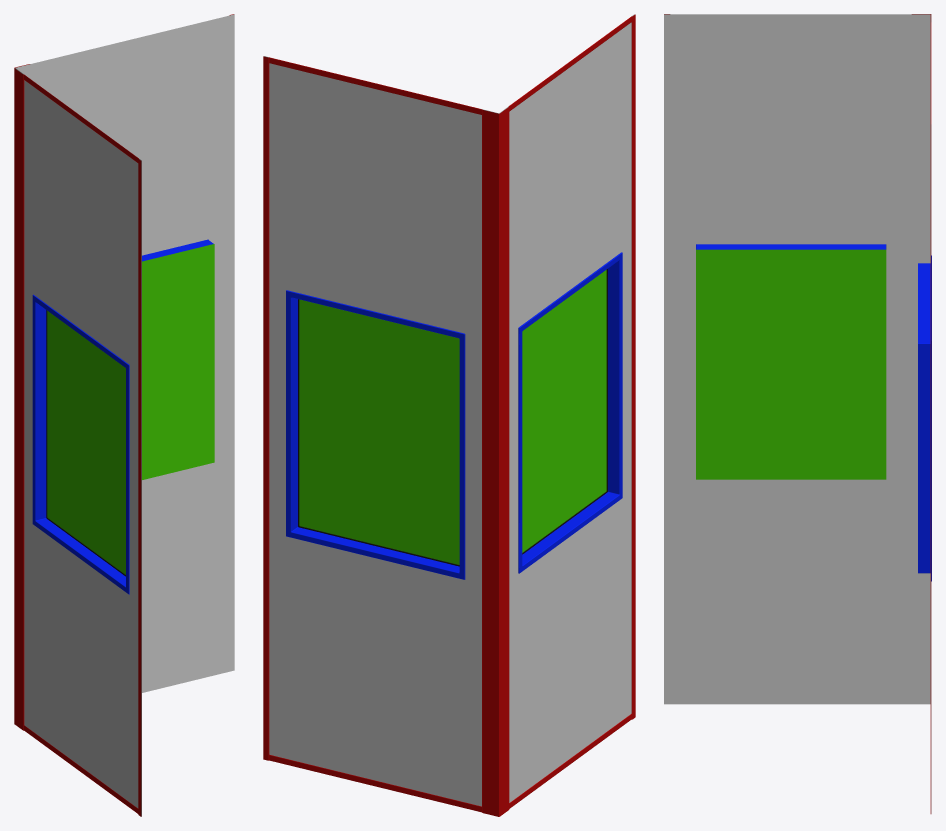
The model's file is Wall02WindowCornerExt.fbx.
The picture shows the model from 3 angles, left to right: view 1: azimuth 30°, elevation 25°; view 2: azimuth 150°, elevation 25°; view 3: azimuth 270°, elevation 25°; orthographic projection. The views are drawn at different scales.
Parts seen in each view (by area): view 1: Wall02WindowCornerExt; view 2: Wall02WindowCornerExt; view 3: Wall02WindowCornerExt.
Boxes of the visible parts, bbox=[...] form: Wall02WindowCornerExt: bbox=[14, 14, 234, 816]; Wall02WindowCornerExt: bbox=[263, 14, 635, 816]; Wall02WindowCornerExt: bbox=[664, 14, 931, 813].
Size of the model in its own units: 106 by 300 by 106.
